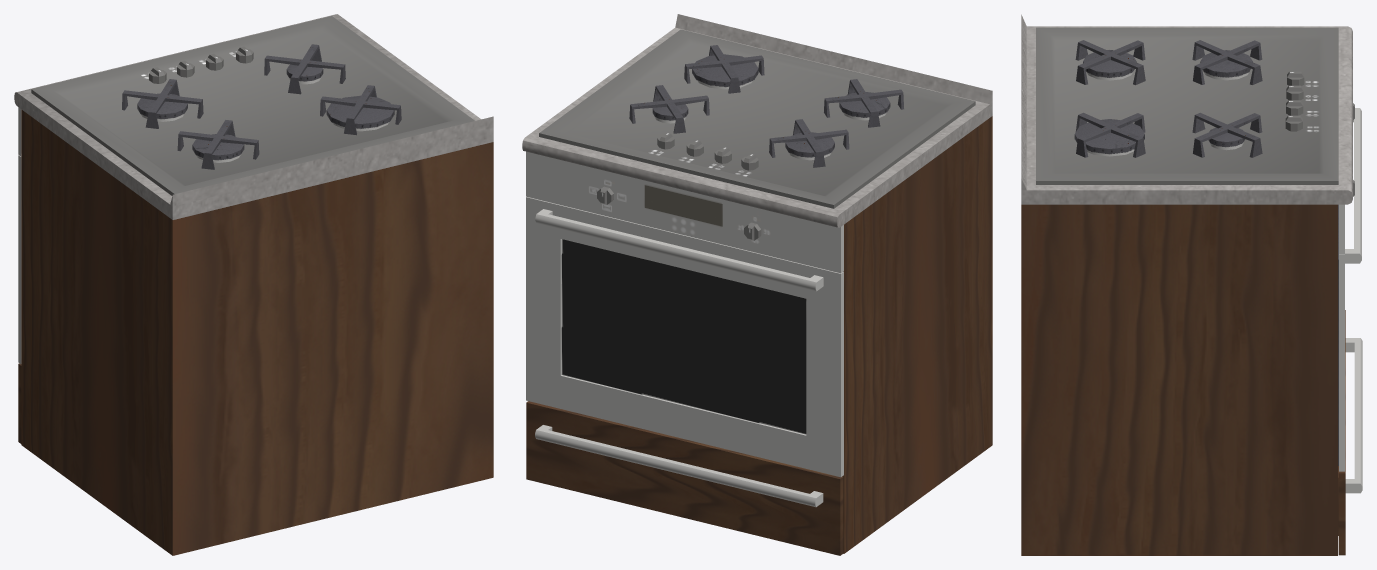
Rendered from oven_hob.glb.
3 renders of one model, left to right at view 1: azimuth 30°, elevation 25°; view 2: azimuth 150°, elevation 25°; view 3: azimuth 270°, elevation 25°, orthographic. The views are drawn at different scales.
Visible parts, largest first — view 1: KitchenCabinetWithStoveAndOven; view 2: KitchenCabinetWithStoveAndOven; view 3: KitchenCabinetWithStoveAndOven.
Part boxes in pixels (x1,y1,x2,y2): KitchenCabinetWithStoveAndOven: (14,14,493,555); KitchenCabinetWithStoveAndOven: (522,14,992,555); KitchenCabinetWithStoveAndOven: (1021,14,1362,555).
Size of the model in its own units: 0.8 by 0.8728 by 0.7043.
Materials: 1 (1 with a texture image).
